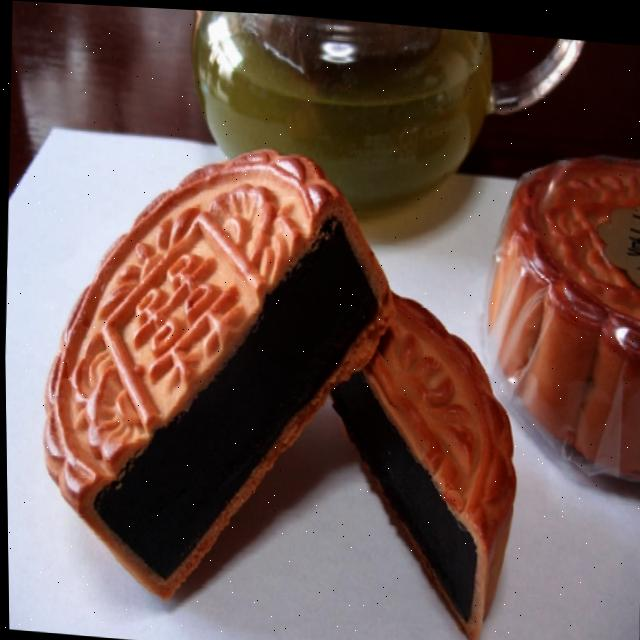蛋糕甜品: (15, 93, 552, 636)
